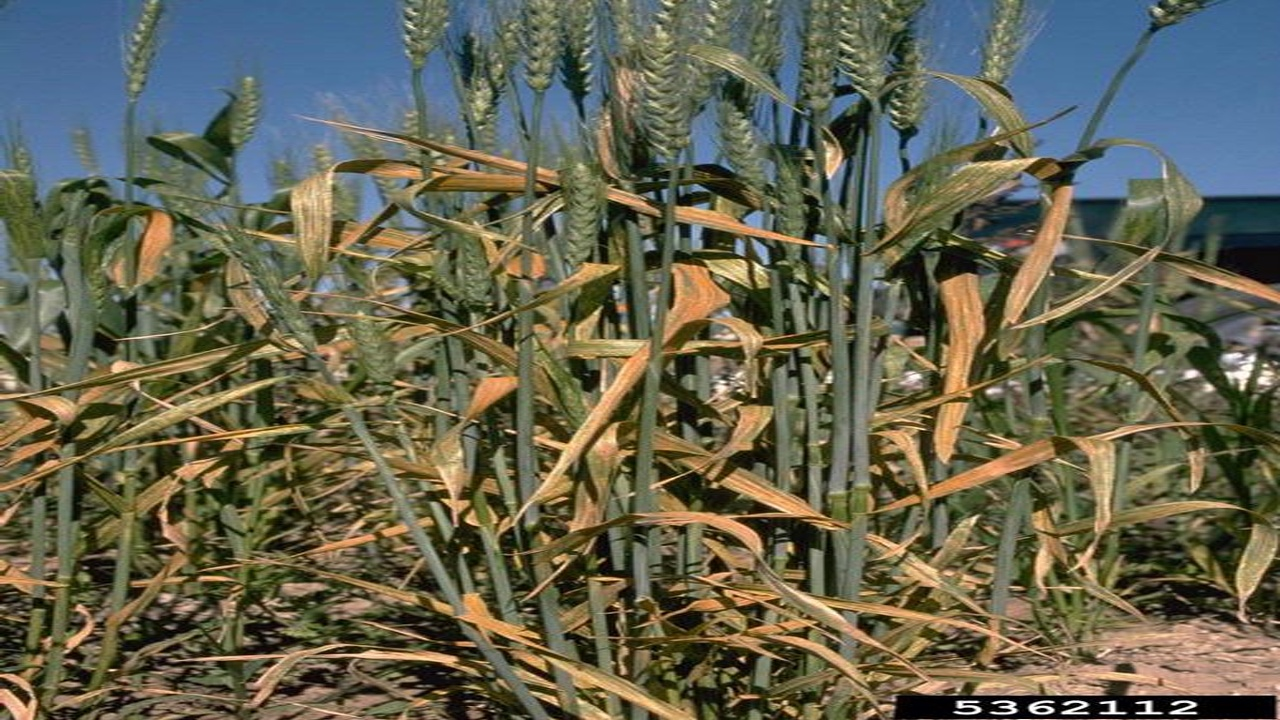stripe_rust: (518, 260, 710, 522), (876, 438, 1103, 512), (1, 353, 163, 451), (354, 150, 562, 207), (934, 249, 985, 466), (999, 184, 1073, 324), (448, 370, 523, 504), (672, 401, 780, 489), (95, 201, 175, 295), (293, 168, 343, 283)
